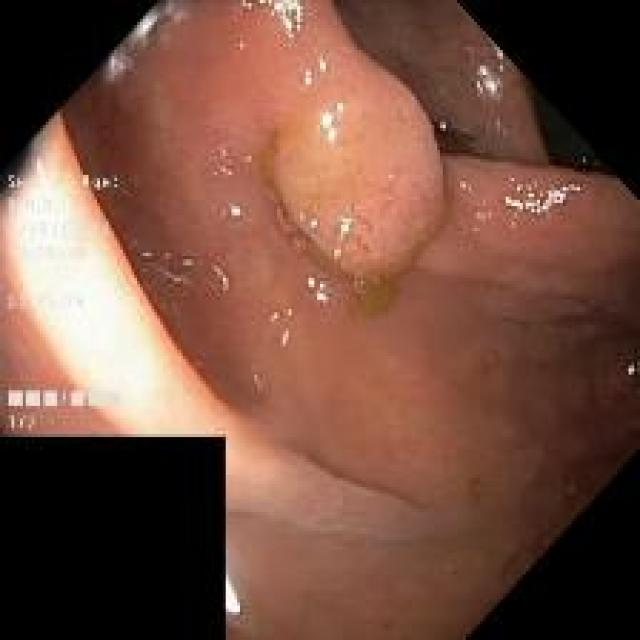Polyps: (261, 4, 444, 312)
